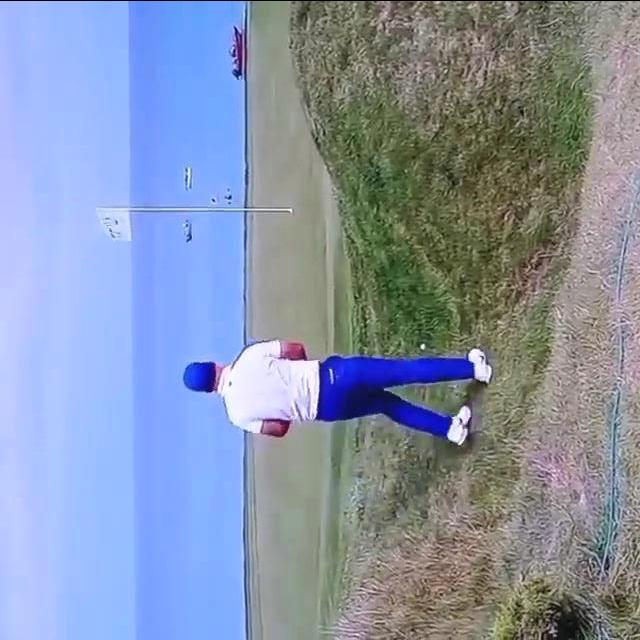golf ball: (420, 341, 426, 349)
